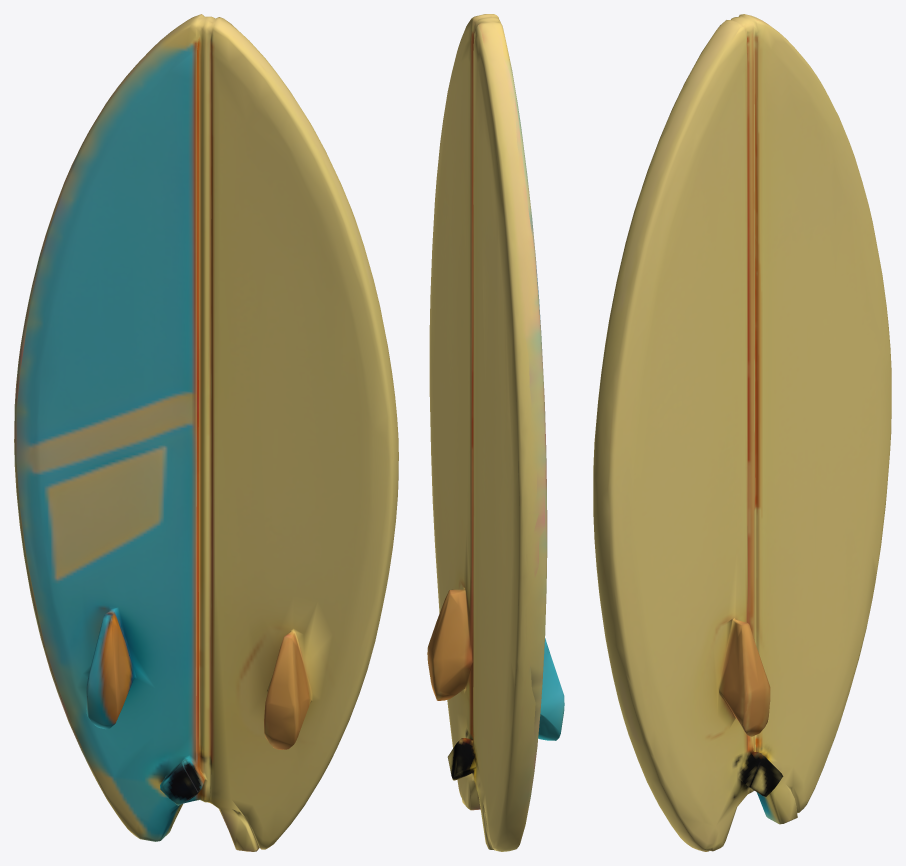
The model's file is surf.fbx.
3 renders of one model, left to right at view 1: azimuth 30°, elevation 25°; view 2: azimuth 150°, elevation 25°; view 3: azimuth 270°, elevation 25°, orthographic. The views are drawn at different scales.
Visible parts, largest first — view 1: node_0.003; view 2: node_0.003; view 3: node_0.003.
Part boxes in pixels (x1,y1,x2,y2): node_0.003: [14, 14, 398, 851]; node_0.003: [427, 14, 564, 851]; node_0.003: [593, 14, 891, 851].
Bounding box in the file's own units: 0.1383 × 0.4335 × 0.1439.
Materials: 1 (1 with a texture image).
